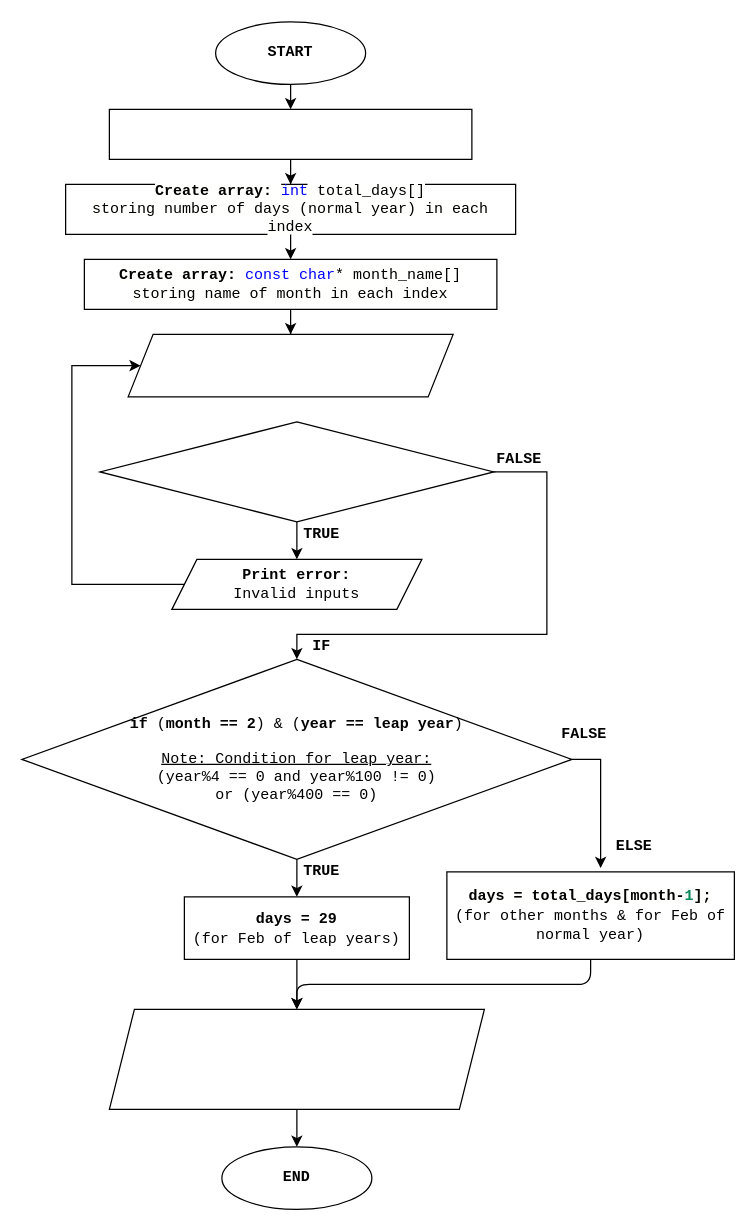
The diagram is 756 pixels wide and 1231 high, and some of its shapes have lost their labels. The shapes that lost their labels are listed below. From the top down, each one's box as (x1, y1, x2, y2) in pixels, then its label:
(108, 108, 472, 159): Initialize: int month, year, days
(127, 333, 453, 397): User input: int month int year
(99, 421, 494, 522): Check conditions: - no input OR - input out of range
(108, 1008, 484, 1109): Print output with: name of month = month_name[month- 1 ] days = days year = year
